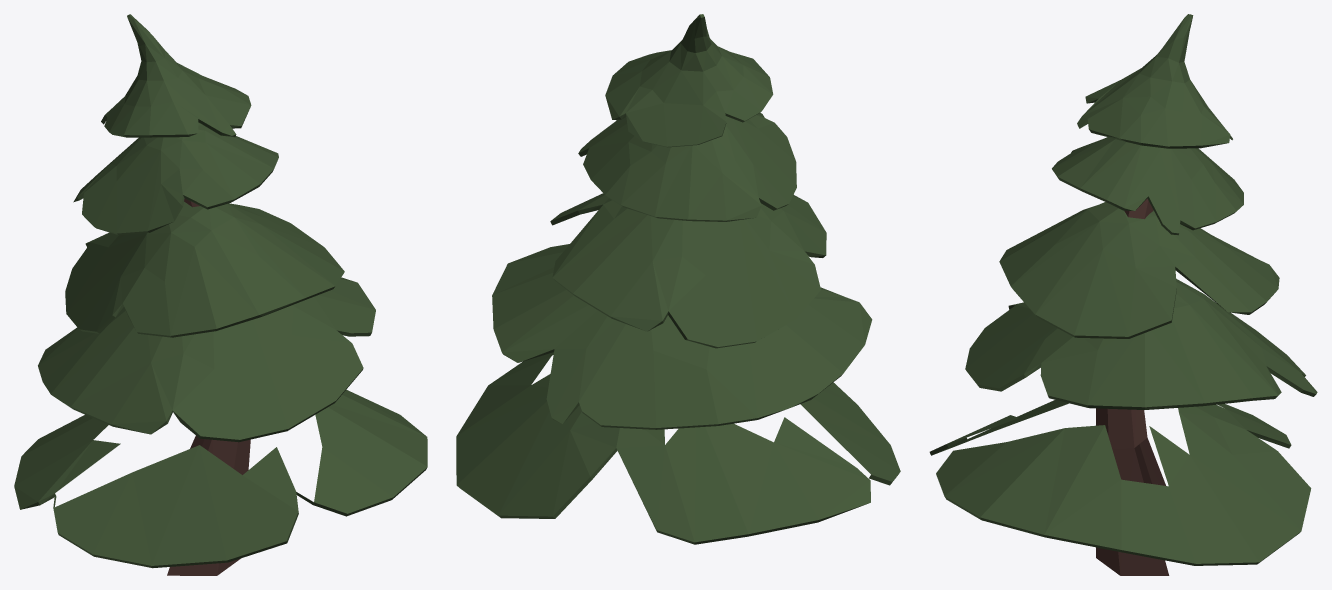
Rendered from PineTree_1.glb.
3 views of the same model, side by side, from view 1: azimuth 30°, elevation 25°; view 2: azimuth 150°, elevation 25°; view 3: azimuth 270°, elevation 25° (orthographic). The views are drawn at different scales.
Visible parts, largest first — view 1: PineTree_1_Cylinder.018; view 2: PineTree_1_Cylinder.018; view 3: PineTree_1_Cylinder.018.
Part boxes in pixels (left/top/right/bottom): PineTree_1_Cylinder.018: left=14, top=14, right=427, bottom=575; PineTree_1_Cylinder.018: left=456, top=14, right=900, bottom=544; PineTree_1_Cylinder.018: left=929, top=14, right=1317, bottom=575.
Size of the model in its own units: 1.95 by 2.7 by 1.81.
